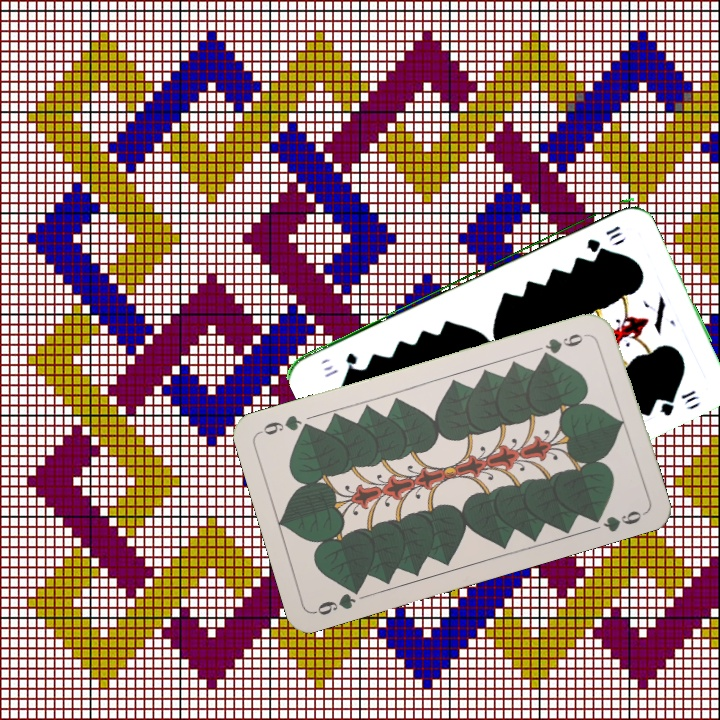G10: (583, 221, 624, 253)
G9: (311, 581, 365, 618), (537, 329, 593, 361)
